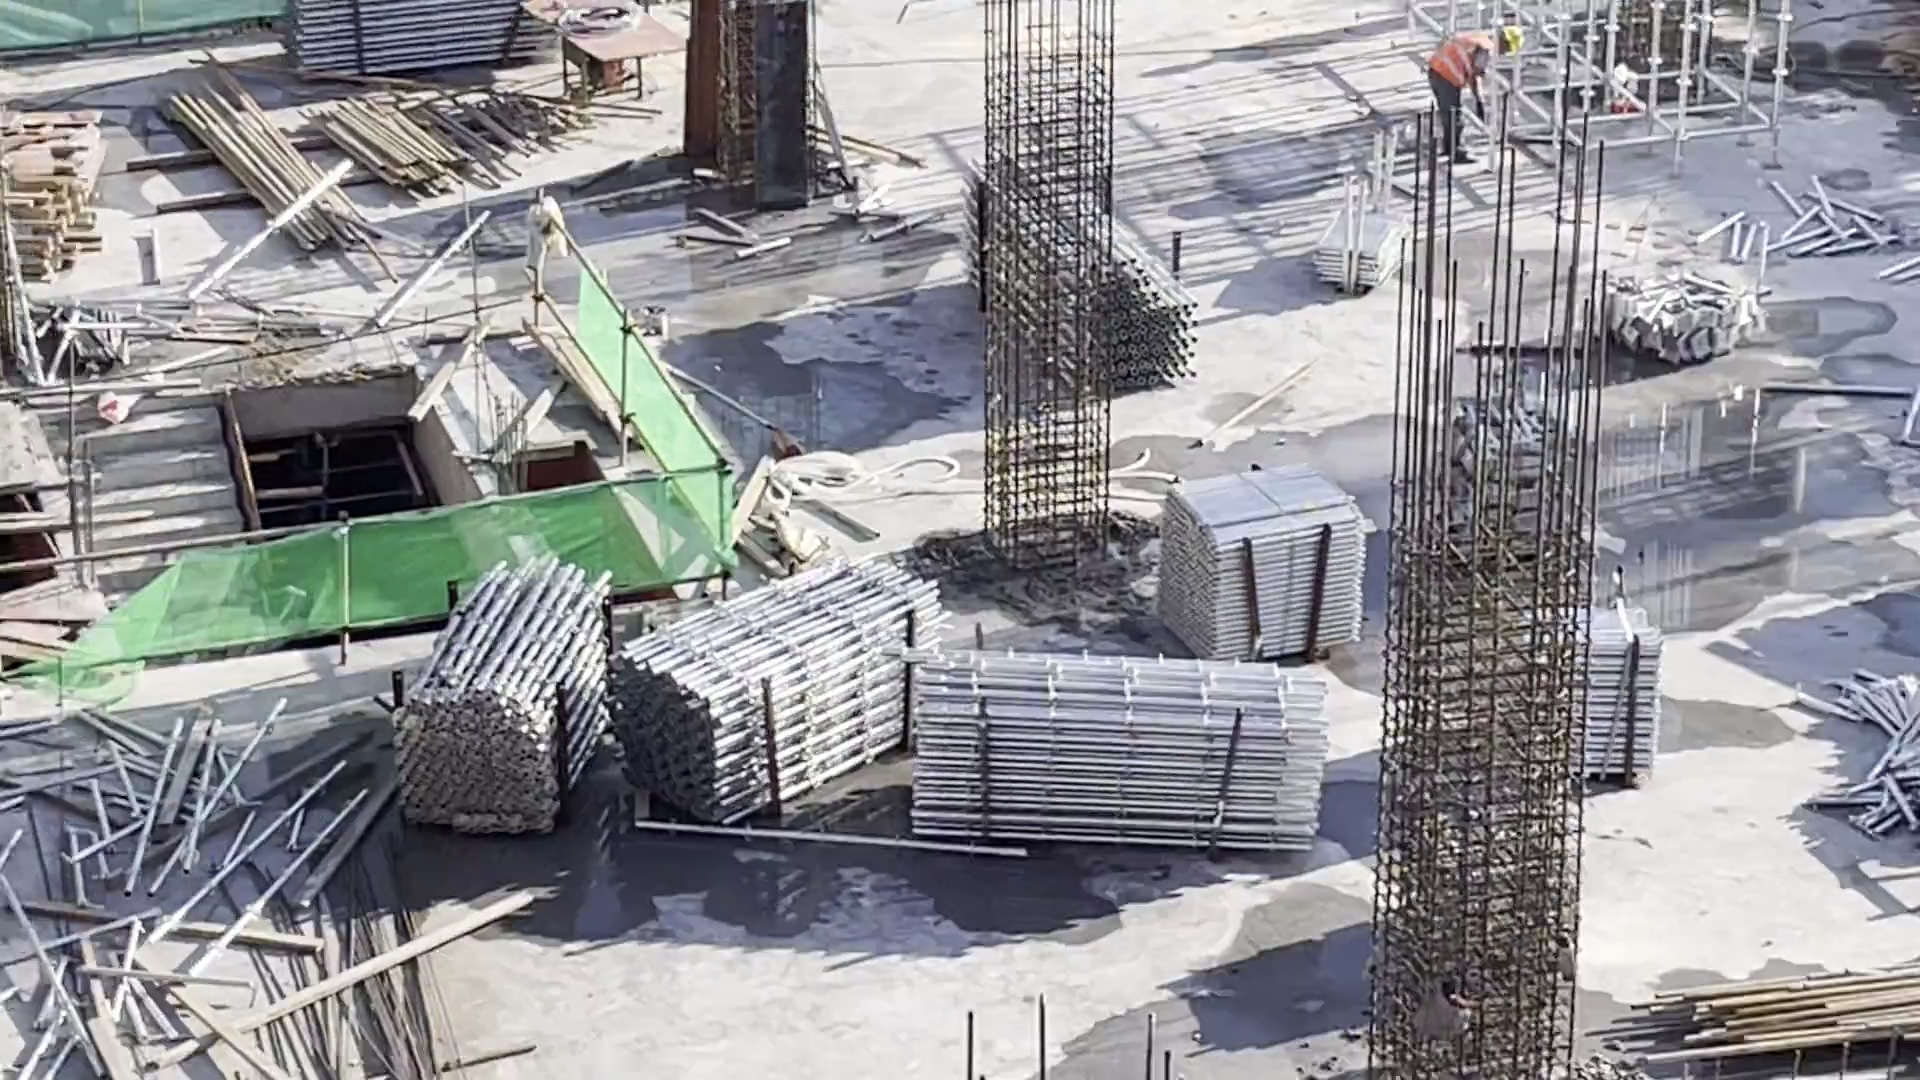cutter: (566, 24, 668, 108)
helmet: (1503, 27, 1527, 57)
person: (1413, 22, 1538, 167)
rebar: (320, 899, 452, 1078)
scaffold: (908, 652, 1343, 861), (647, 559, 932, 787), (404, 572, 615, 815), (999, 204, 1224, 432), (1168, 488, 1360, 672), (288, 5, 559, 71), (1547, 631, 1644, 789), (1849, 670, 1920, 821), (1309, 206, 1400, 307)
vest: (1431, 34, 1488, 108)
wood: (1, 147, 77, 285)
